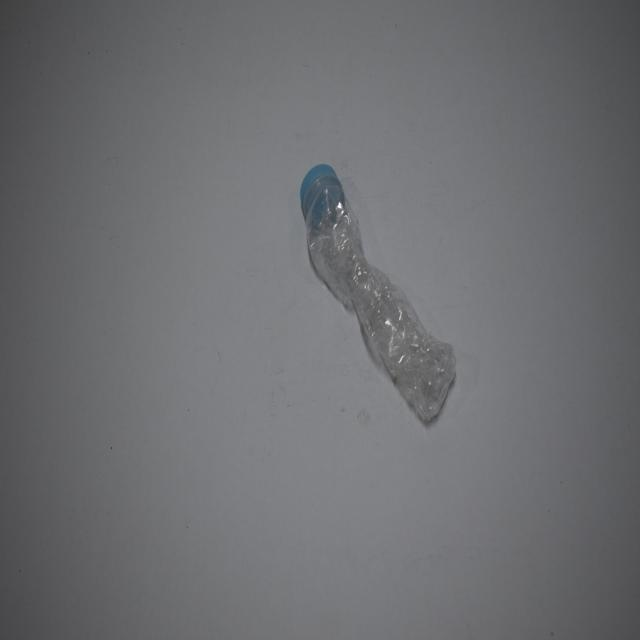bottle: (298, 148, 466, 428)
